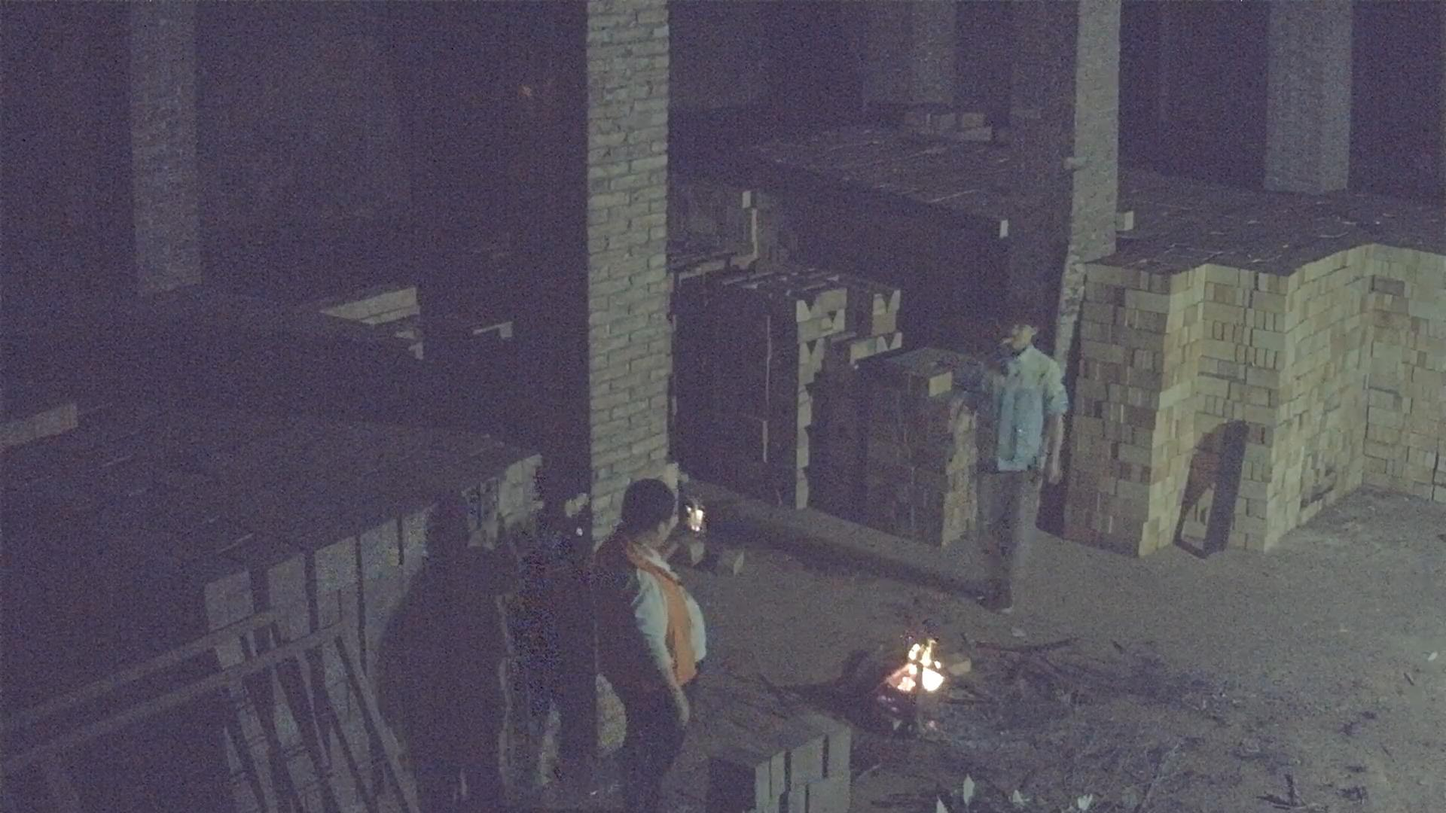fire: (889, 638, 944, 693)
